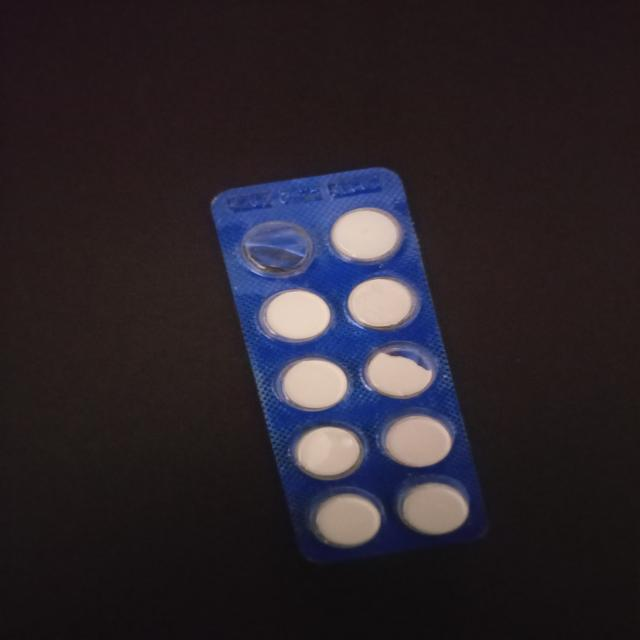defect: (237, 218, 318, 280), (359, 341, 443, 400)
